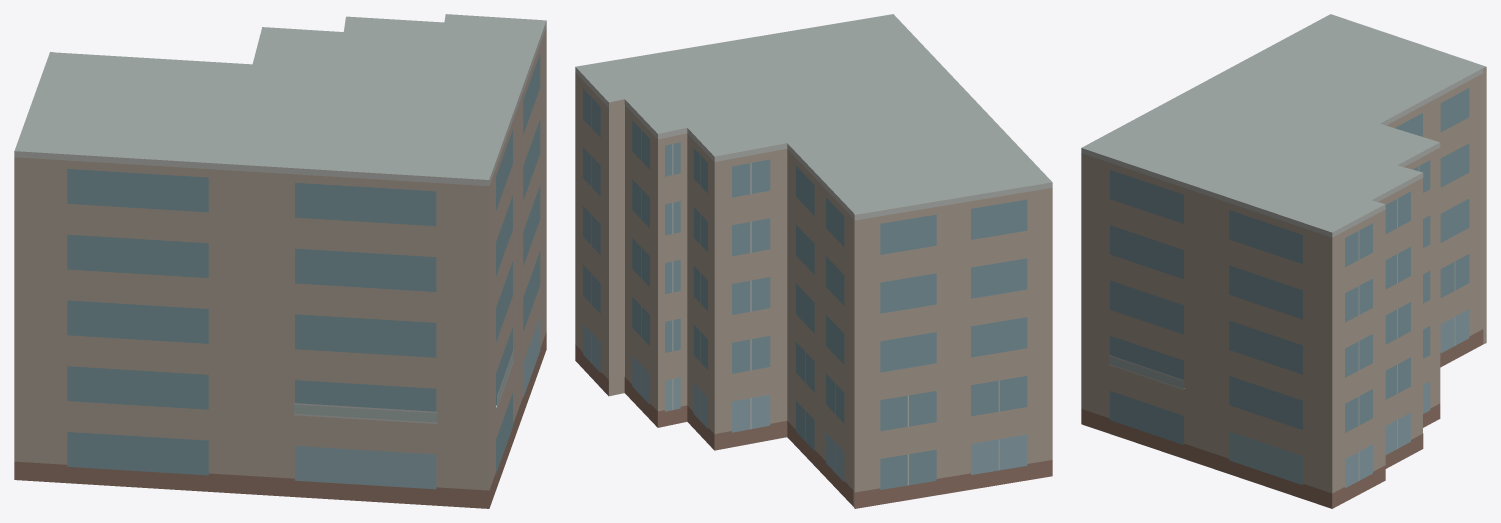
Rendered from survey-upis-32671523.glb.
3 renders of one model, left to right at view 1: azimuth 30°, elevation 25°; view 2: azimuth 150°, elevation 25°; view 3: azimuth 270°, elevation 25°, orthographic. The views are drawn at different scales.
Visible parts, largest first — view 1: survey-upis-32671523.tmp; view 2: survey-upis-32671523.tmp; view 3: survey-upis-32671523.tmp.
Boxes of the visible parts, x1=… form: survey-upis-32671523.tmp: x1=14, y1=14, x2=546, y2=508; survey-upis-32671523.tmp: x1=575, y1=14, x2=1052, y2=508; survey-upis-32671523.tmp: x1=1081, y1=14, x2=1486, y2=508.
Size of the model in its own units: 22.23 by 13.1 by 17.43.
